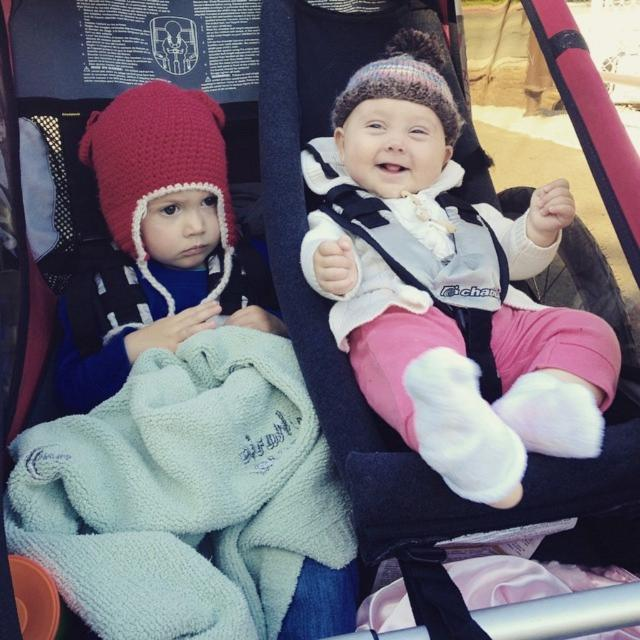SafeDriving: (192, 181, 227, 213), (154, 194, 188, 220), (361, 114, 392, 136)
Seatbelt: (306, 172, 504, 400), (62, 114, 96, 354)
